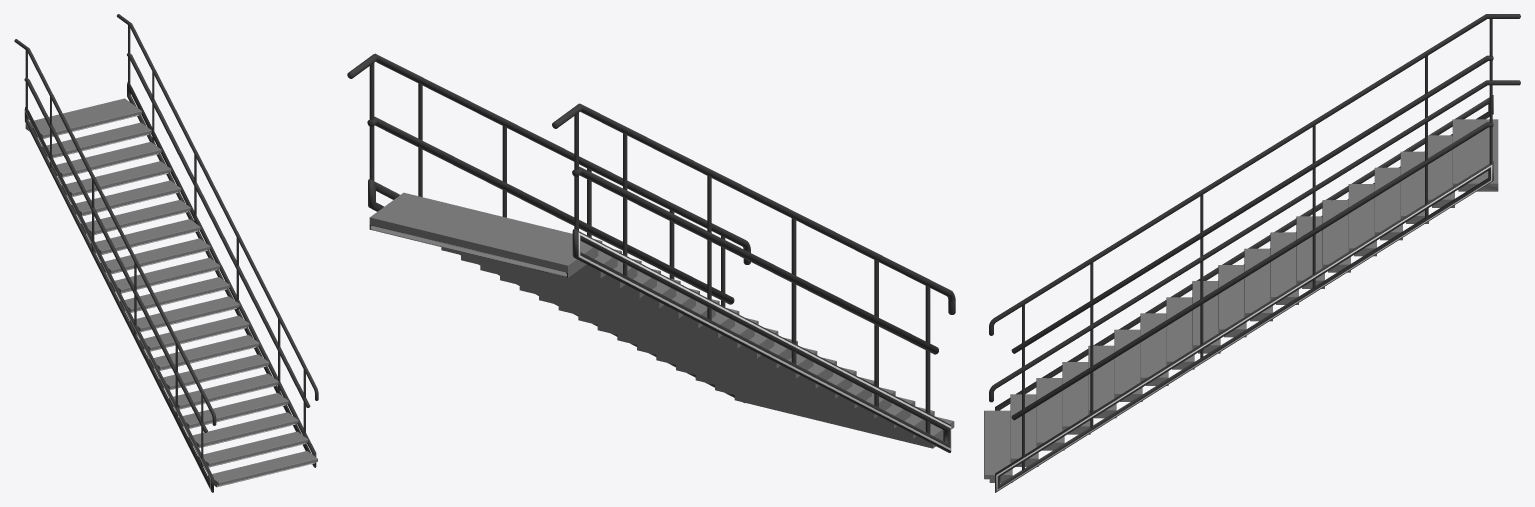
Rendered from StairsMetalStraight01.FBX.
The picture shows the model from 3 angles, left to right: view 1: azimuth 30°, elevation 25°; view 2: azimuth 150°, elevation 25°; view 3: azimuth 270°, elevation 25°; orthographic projection. The views are drawn at different scales.
Parts seen in each view (by area): view 1: Stairs01; view 2: Stairs01; view 3: Stairs01.
Boxes of the visible parts, bbox=[...] form: Stairs01: bbox=[14, 14, 318, 492]; Stairs01: bbox=[347, 53, 955, 452]; Stairs01: bbox=[984, 14, 1520, 492].
Size of what is drawn, in the model's own units: 180 by 502 by 592.
